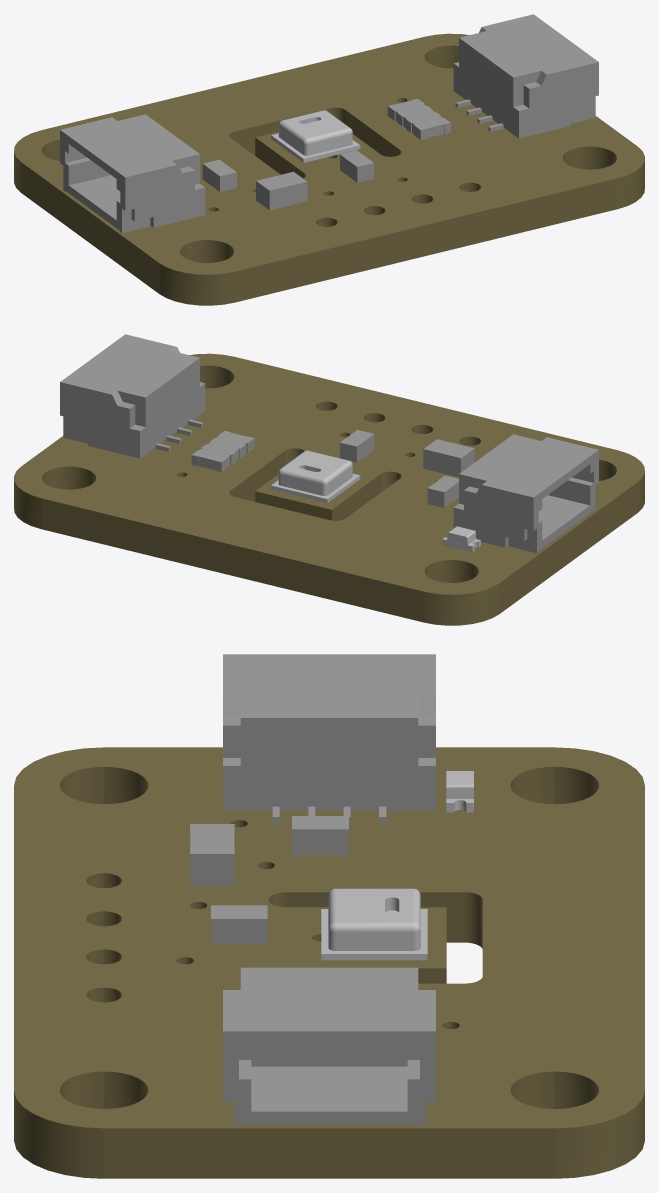
File: ada-4566.glb
3 renders of one model, top to bottom at view 1: azimuth 30°, elevation 25°; view 2: azimuth 150°, elevation 25°; view 3: azimuth 270°, elevation 25°, orthographic. The views are drawn at different scales.
Parts seen in each view (by area): view 1: 0.16666666666666666_0.16666666666666666_0.08333333333333333_, 0.3333333333333333_0.3333333333333333_0.3333333333333333_0, 0.5833333333333334_0.5833333333333334_0.5833333333333334_0.8; view 2: 0.16666666666666666_0.16666666666666666_0.08333333333333333_, 0.3333333333333333_0.3333333333333333_0.3333333333333333_0, 0.5833333333333334_0.5833333333333334_0.5833333333333334_0.8; view 3: 0.16666666666666666_0.16666666666666666_0.08333333333333333_, 0.3333333333333333_0.3333333333333333_0.3333333333333333_0, 0.5833333333333334_0.5833333333333334_0.5833333333333334_0.8.
Boxes of the visible parts, x1,y1,x2,y2 form: 0.16666666666666666_0.16666666666666666_0.08333333333333333_: [14, 33, 644, 305]; 0.3333333333333333_0.3333333333333333_0.3333333333333333_0: [60, 14, 598, 233]; 0.5833333333333334_0.5833333333333334_0.5833333333333334_0.8: [271, 110, 360, 162]; 0.16666666666666666_0.16666666666666666_0.08333333333333333_: [14, 353, 644, 625]; 0.3333333333333333_0.3333333333333333_0.3333333333333333_0: [60, 334, 598, 553]; 0.5833333333333334_0.5833333333333334_0.5833333333333334_0.8: [271, 450, 480, 552]; 0.16666666666666666_0.16666666666666666_0.08333333333333333_: [14, 747, 644, 1178]; 0.3333333333333333_0.3333333333333333_0.3333333333333333_0: [190, 654, 435, 1125]; 0.5833333333333334_0.5833333333333334_0.5833333333333334_0.8: [321, 771, 473, 960].
Size of the model in its own units: 2.54 by 0.4529 by 1.78.
